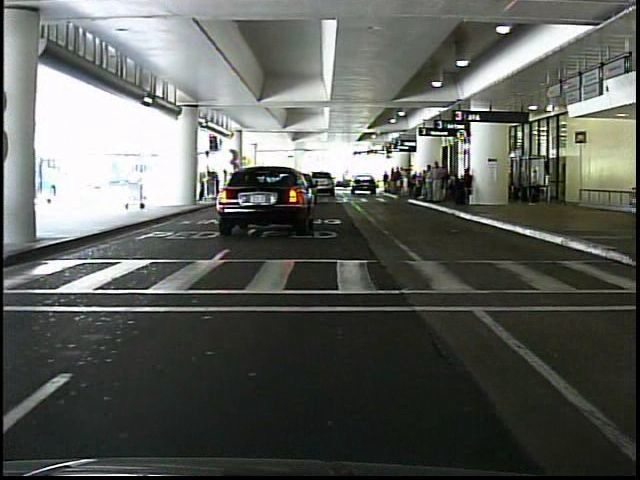person: (427, 156, 449, 208), (132, 165, 153, 211)
